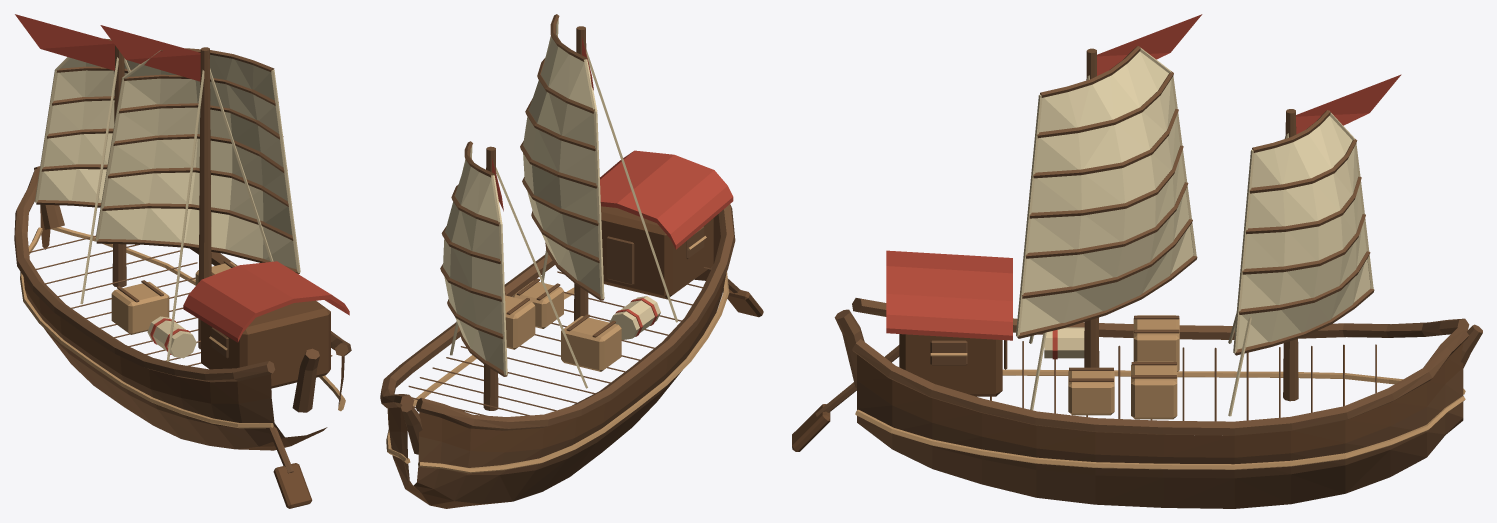
The model's file is ship.glb.
3 renders of one model, left to right at view 1: azimuth 30°, elevation 25°; view 2: azimuth 150°, elevation 25°; view 3: azimuth 270°, elevation 25°, orthographic. The views are drawn at different scales.
Parts seen in each view (by area): view 1: sail, leather_wood.001, hull_warm_wood, player_accent.001, canvas_cargo.001, deck_honey_wood; view 2: leather_wood.001, sail, hull_warm_wood, player_accent.001, deck_honey_wood, canvas_cargo.001; view 3: leather_wood.001, sail, hull_warm_wood, player_accent.001, deck_honey_wood, canvas_cargo.001.
Boxes of the visible parts, <box> form: sail: <box>38,54,296,269</box>; leather_wood.001: <box>14,38,351,473</box>; hull_warm_wood: <box>23,206,344,508</box>; player_accent.001: <box>15,14,349,354</box>; canvas_cargo.001: <box>35,50,300,361</box>; deck_honey_wood: <box>20,226,345,428</box>; leather_wood.001: <box>380,14,740,503</box>; sail: <box>443,36,600,370</box>; hull_warm_wood: <box>387,206,763,508</box>; player_accent.001: <box>492,37,733,336</box>; deck_honey_wood: <box>386,236,729,473</box>; canvas_cargo.001: <box>450,19,678,388</box>; leather_wood.001: <box>815,46,1482,508</box>; sail: <box>1020,51,1370,349</box>; hull_warm_wood: <box>792,334,1463,457</box>; player_accent.001: <box>886,14,1401,359</box>; deck_honey_wood: <box>855,315,1465,469</box>; canvas_cargo.001: <box>1016,47,1373,416</box>.
Bounding box in the file's own units: 0.4814 × 1 × 1.38.
